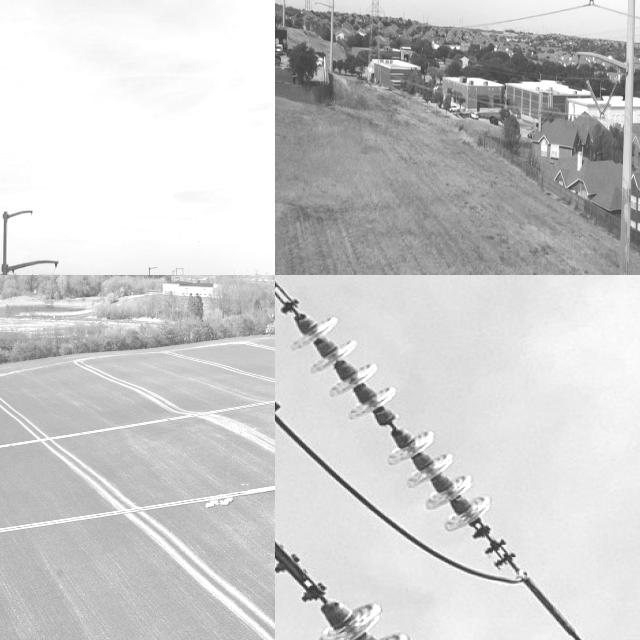杆塔: (357, 0, 392, 86)
正常电缆: (0, 394, 275, 452), (0, 482, 275, 537), (519, 574, 602, 640)
正常绝缘子: (275, 275, 553, 600), (275, 556, 425, 640), (580, 68, 608, 123), (596, 75, 621, 127), (585, 0, 599, 15)
绝缘子破损: (373, 414, 415, 437)
